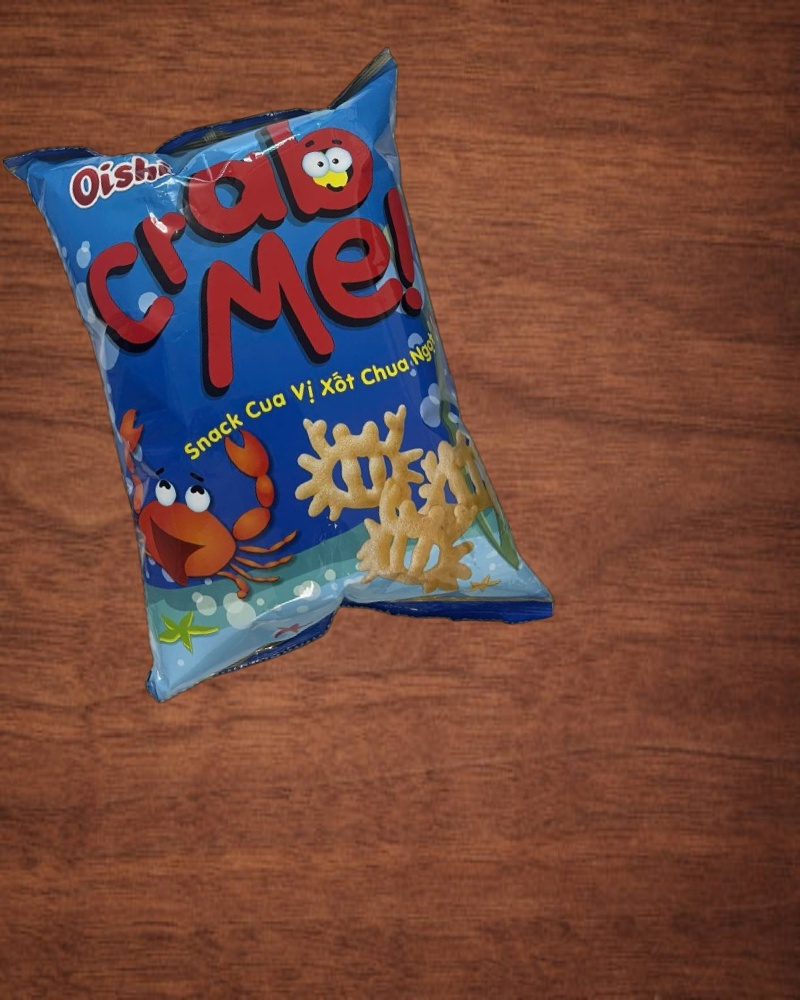Snack cua: (1, 43, 557, 717)
